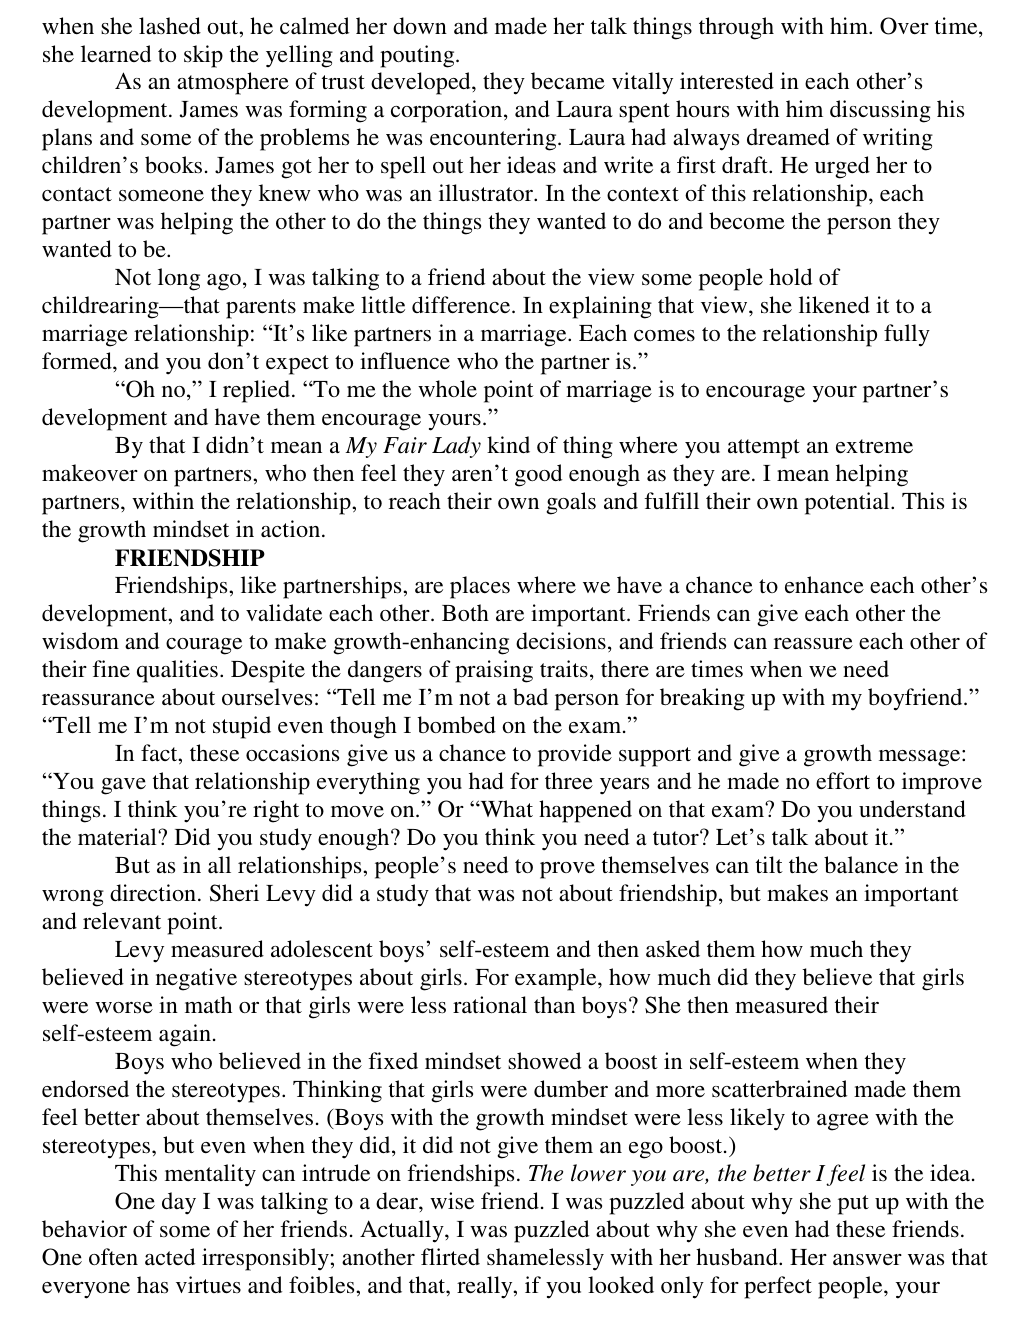latin: (40, 566, 992, 850), (37, 259, 975, 544), (36, 20, 986, 259), (31, 850, 970, 1045), (34, 1162, 989, 1302), (38, 1045, 962, 1165), (108, 543, 269, 568)
